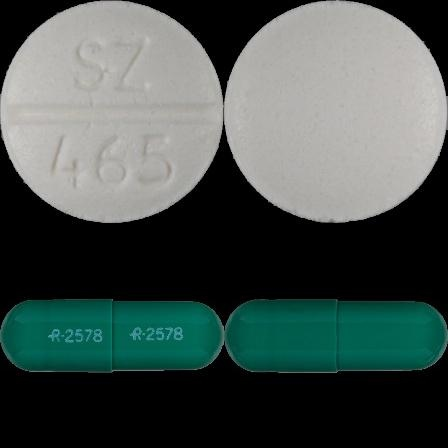21695-802: (0, 0, 224, 224)
